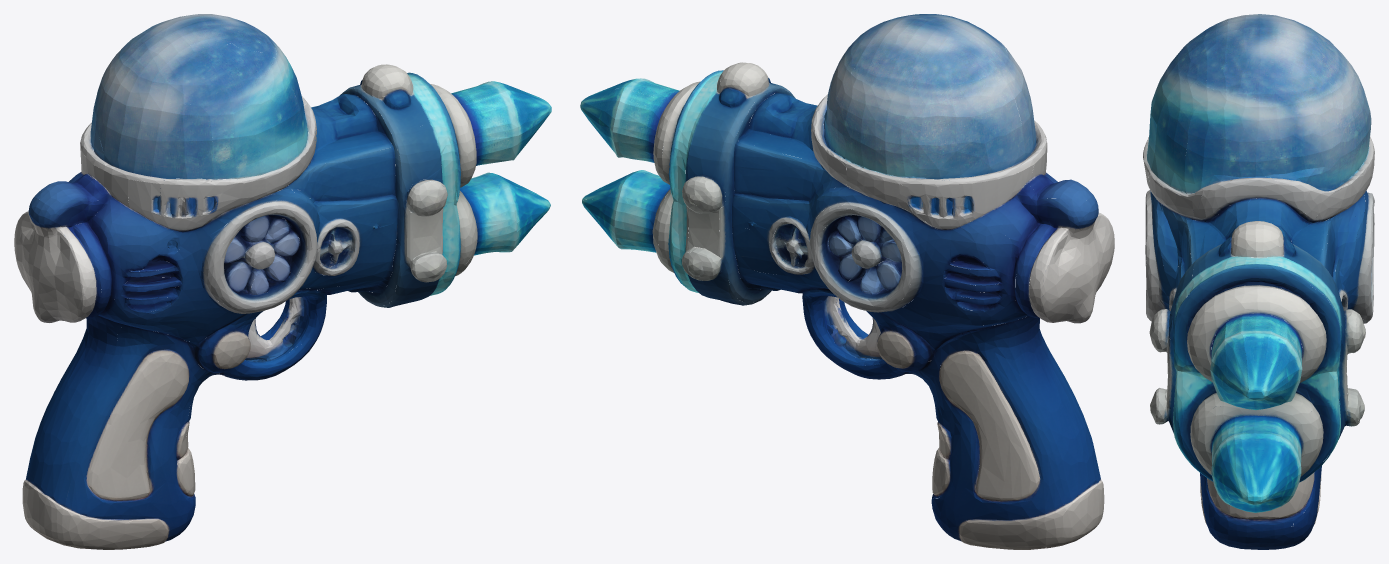
The model's file is blizzard_beam.glb.
3 views of the same model, side by side, from view 1: azimuth 30°, elevation 25°; view 2: azimuth 150°, elevation 25°; view 3: azimuth 270°, elevation 25° (orthographic). The views are drawn at different scales.
Visible parts, largest first — view 1: blizzard_beam; view 2: blizzard_beam; view 3: blizzard_beam.
Part boxes in pixels (bbox=[...]): blizzard_beam: bbox=[14, 14, 551, 549]; blizzard_beam: bbox=[580, 14, 1114, 549]; blizzard_beam: bbox=[1143, 14, 1374, 549].
Size of the model in its own units: 1 by 0.9254 by 0.3568.
Materials: 1 (1 with a texture image).
